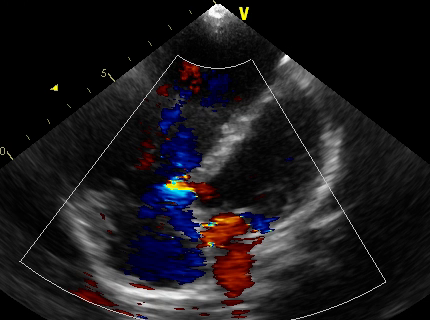TR: (139, 171, 210, 237)
